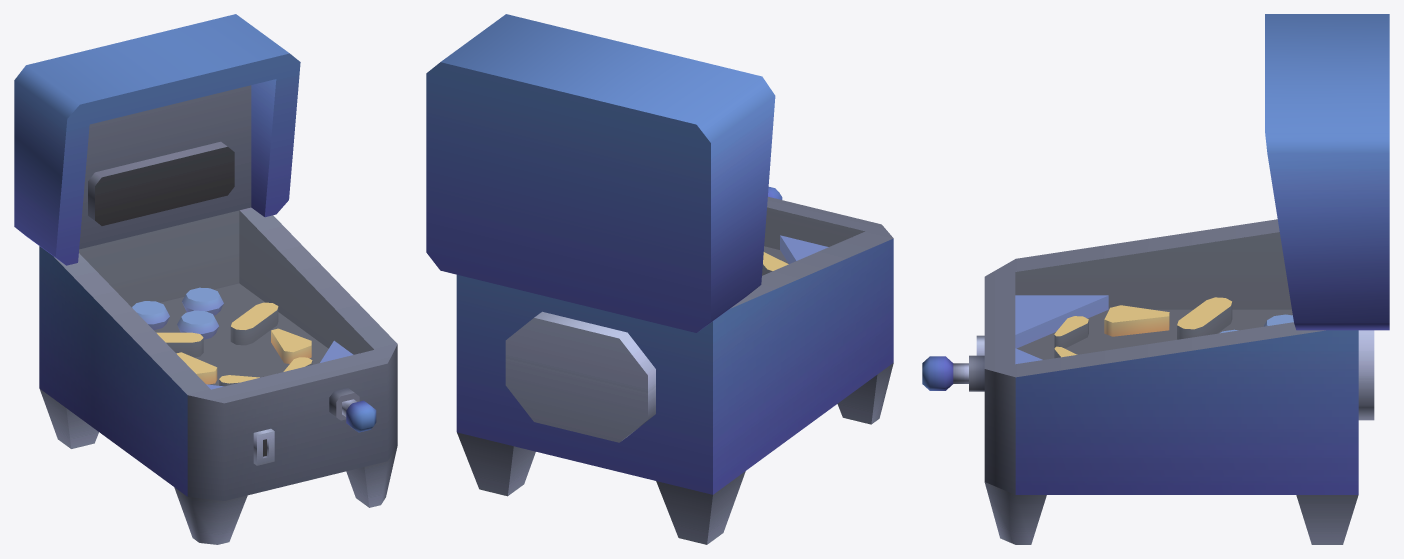
File: pinball.glb
The picture shows the model from 3 angles, left to right: view 1: azimuth 30°, elevation 25°; view 2: azimuth 150°, elevation 25°; view 3: azimuth 270°, elevation 25°; orthographic projection. The views are drawn at different scales.
Visible parts, largest first — view 1: pinball, (%ignore); view 2: pinball, (%ignore); view 3: pinball, (%ignore).
Part boxes in pixels (left/top/right/bottom): pinball: left=14, top=14, right=397, bottom=544; (%ignore): left=79, top=210, right=373, bottom=389; pinball: left=426, top=14, right=893, bottom=544; (%ignore): left=762, top=207, right=864, bottom=275; pinball: left=922, top=14, right=1389, bottom=544; (%ignore): left=1015, top=232, right=1293, bottom=363.
Bounding box in the file's own units: 0.5 × 0.7417 × 0.75.
2 materials, 1 textured.
